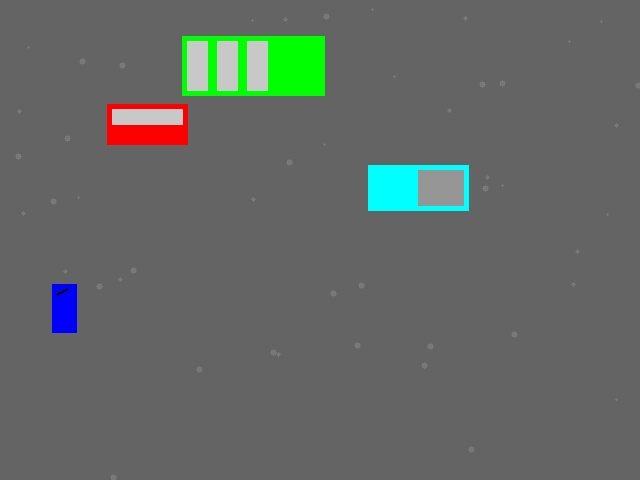bus: (182, 36, 324, 95)
car: (107, 104, 187, 144)
motorcycle: (52, 284, 76, 332)
truck: (368, 165, 468, 210)
